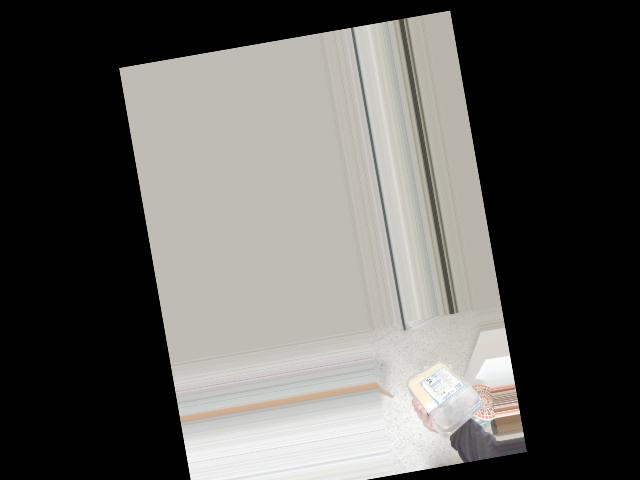cheese: (408, 352, 490, 424)
